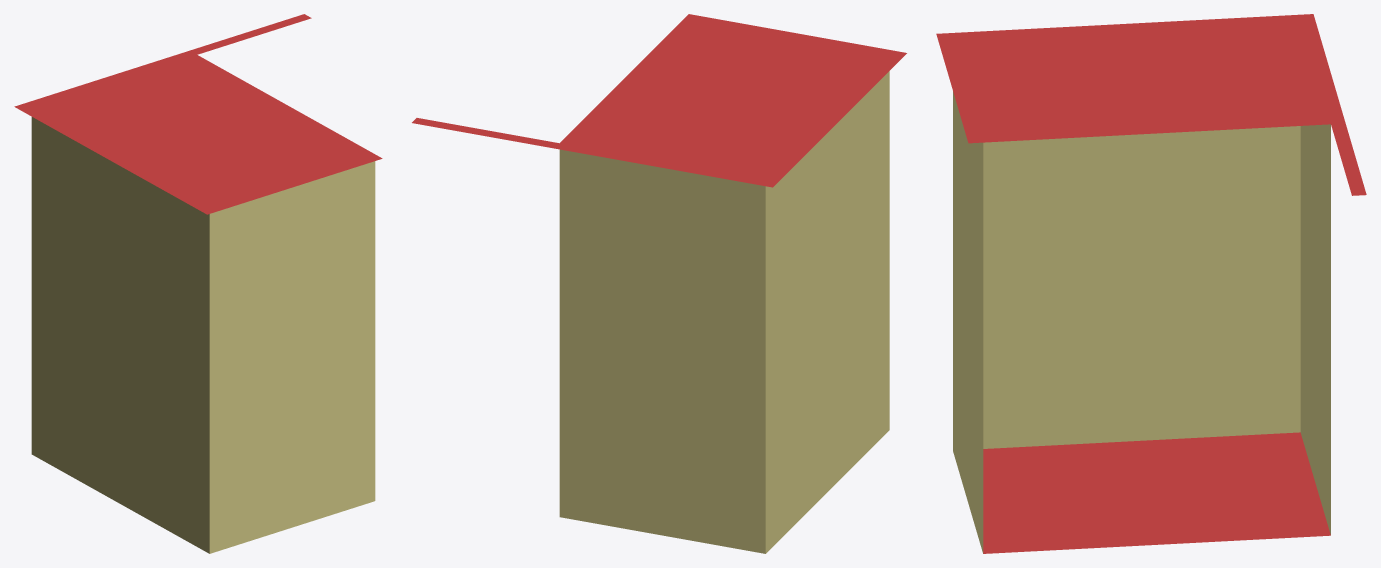
3 views of the same model, side by side, from view 1: azimuth 30°, elevation 25°; view 2: azimuth 150°, elevation 25°; view 3: azimuth 270°, elevation 25° (orthographic). The views are drawn at different scales.
Bounding box in the file's own units: 7.22 × 7.22 × 7.61.
